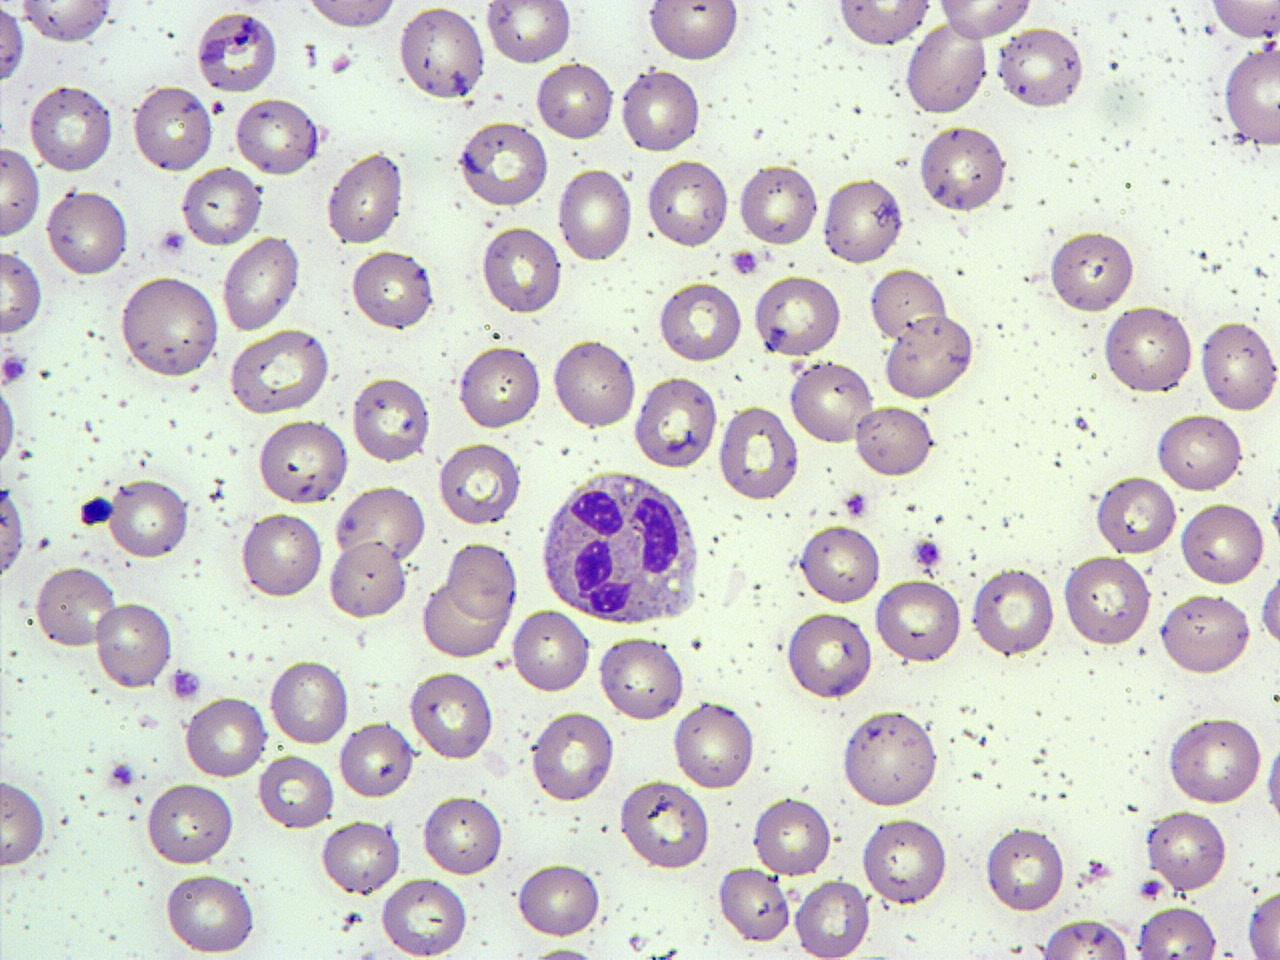Platelets: (168, 665, 204, 703), (528, 942, 596, 960), (80, 493, 115, 527), (158, 226, 188, 258), (1, 352, 27, 386), (730, 248, 760, 276), (914, 539, 942, 568), (844, 490, 869, 518), (1137, 878, 1167, 900), (108, 762, 135, 786), (328, 53, 354, 75), (209, 98, 224, 116)
RBC: (839, 707, 942, 811), (118, 276, 220, 380), (225, 325, 334, 419), (397, 4, 488, 104), (618, 778, 714, 872), (1166, 714, 1264, 806), (1102, 302, 1196, 396), (915, 122, 1008, 216), (1060, 554, 1152, 648), (632, 373, 720, 471), (456, 120, 551, 210), (548, 337, 638, 432), (529, 708, 618, 804), (968, 564, 1057, 660), (902, 20, 990, 117), (784, 609, 876, 701), (595, 632, 687, 724), (859, 814, 949, 908), (255, 417, 350, 506), (220, 232, 302, 335), (162, 871, 260, 957), (1156, 591, 1254, 677), (332, 482, 429, 568), (143, 779, 236, 868), (994, 24, 1086, 113), (872, 576, 964, 665), (27, 82, 114, 176), (644, 156, 731, 250), (409, 668, 495, 763), (717, 405, 800, 503), (786, 358, 876, 448), (1178, 499, 1268, 589), (419, 574, 513, 660), (882, 314, 976, 400), (436, 438, 523, 530), (44, 185, 130, 278), (1153, 410, 1247, 495), (555, 165, 635, 264), (820, 175, 906, 267), (982, 824, 1068, 916), (752, 273, 845, 358), (93, 598, 175, 694), (1048, 227, 1136, 316), (378, 874, 469, 960), (239, 510, 324, 602), (324, 149, 404, 246), (1198, 319, 1278, 416), (456, 343, 543, 432), (656, 279, 746, 365), (672, 700, 758, 790), (479, 224, 563, 316), (1144, 806, 1230, 895), (618, 65, 702, 156), (350, 373, 432, 466), (129, 84, 213, 174), (268, 656, 350, 748), (194, 8, 280, 95), (32, 564, 117, 652), (510, 605, 592, 696), (418, 792, 504, 878), (798, 520, 883, 607), (750, 792, 834, 880), (183, 694, 268, 780), (350, 247, 436, 332), (514, 859, 603, 941), (179, 164, 266, 247), (737, 162, 820, 248), (107, 476, 190, 562), (1093, 473, 1177, 556), (233, 97, 320, 177), (326, 539, 408, 623), (317, 817, 400, 899), (534, 60, 616, 143), (792, 875, 872, 960), (336, 719, 416, 801), (852, 402, 936, 480), (256, 750, 335, 830), (866, 264, 948, 341), (716, 864, 792, 947), (444, 539, 519, 622), (643, 1, 742, 63), (1223, 42, 1279, 149), (482, 0, 572, 66), (832, 0, 933, 51), (1131, 903, 1221, 960), (932, 0, 1039, 44), (0, 775, 48, 870), (18, 0, 115, 46), (0, 145, 43, 241), (0, 247, 45, 337), (1040, 916, 1132, 960), (301, 0, 402, 32), (1206, 0, 1280, 42), (0, 484, 27, 584), (1245, 888, 1279, 959), (0, 2, 26, 89), (1257, 562, 1279, 658), (0, 382, 17, 470)
WBC: (534, 466, 704, 628)
